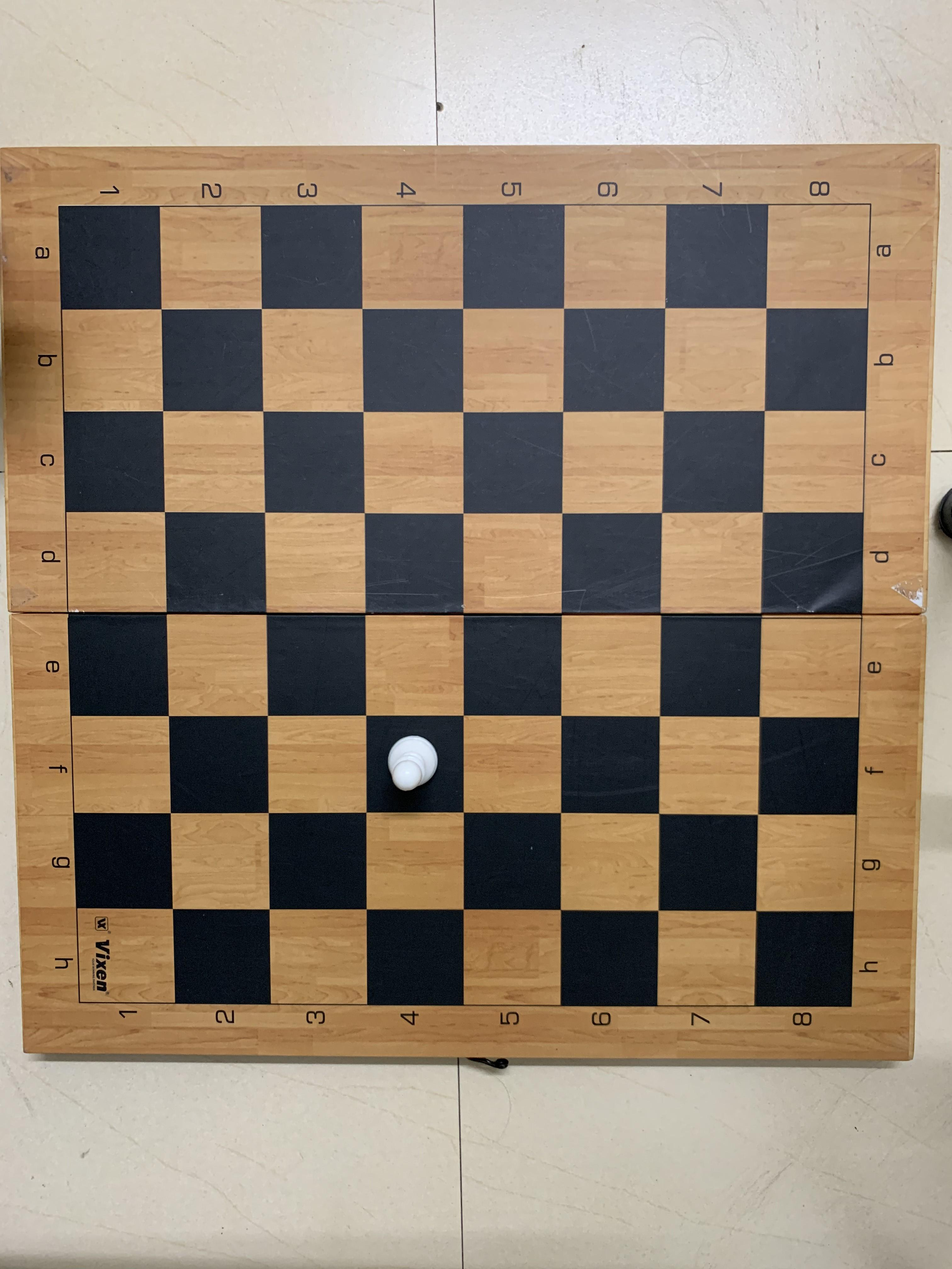white_pawn: (362, 710, 450, 812)
